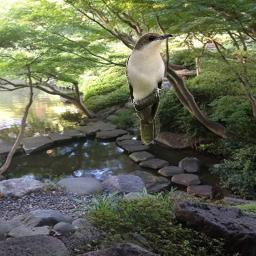Cuckoo: (126, 32, 174, 146)
